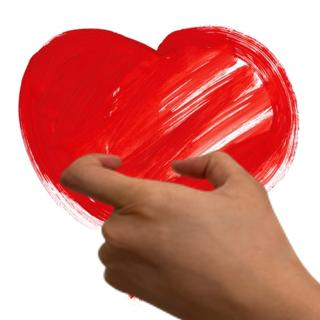HATE: (52, 146, 308, 320)
